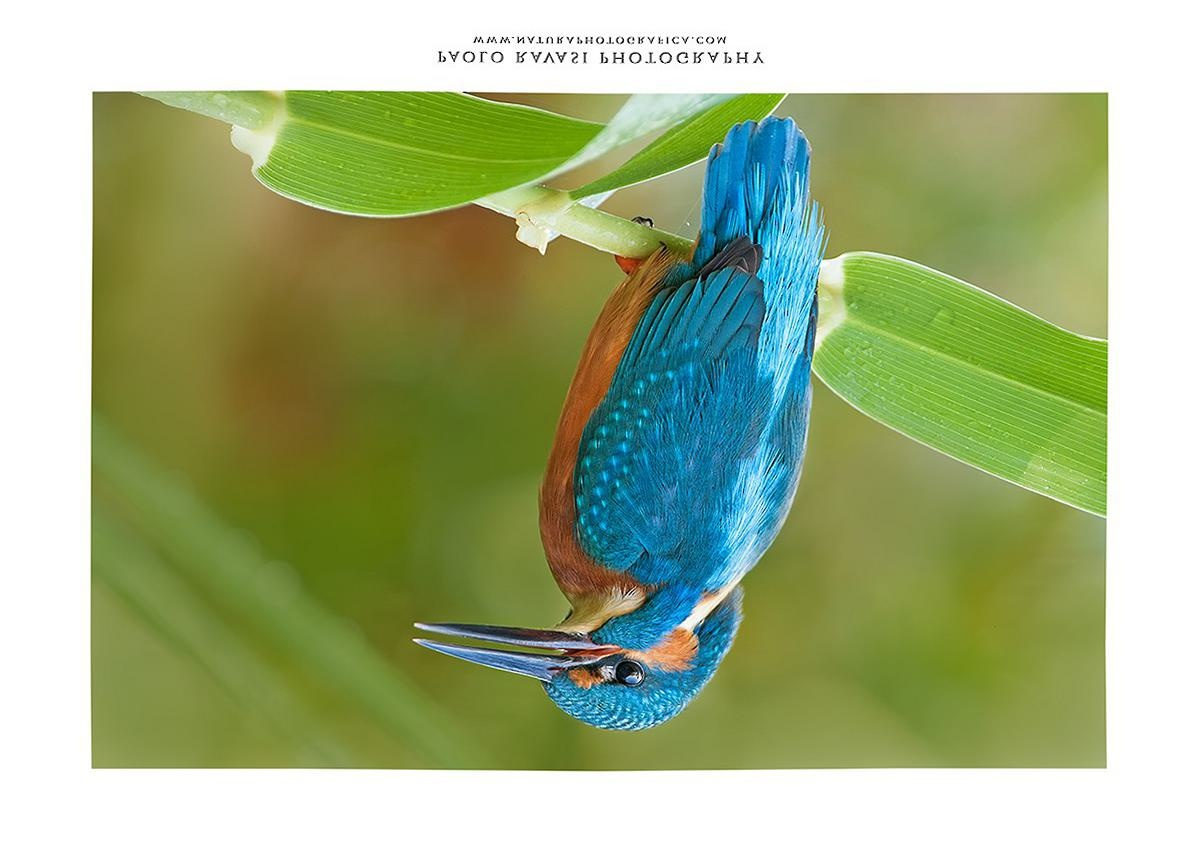kingfisher: (409, 120, 873, 760)
